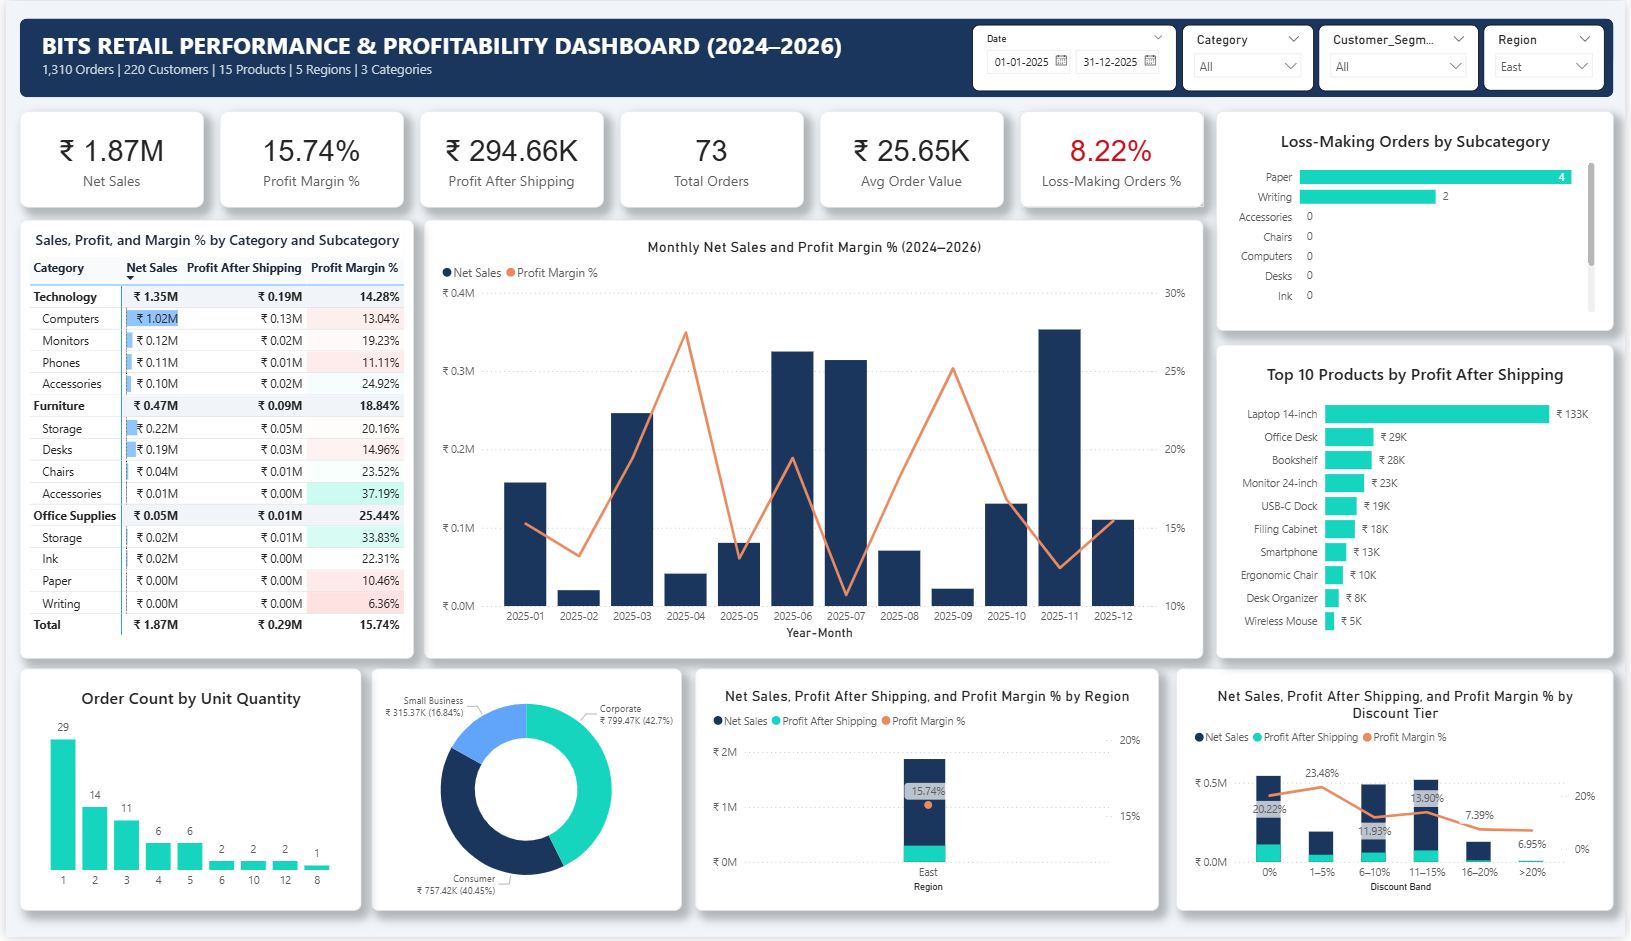

What the dashboard file says about the page in this screenshot:
{"tool":"powerbi","page":{"name":"Page 2","canvas":[1850,1070],"ordinal":1},"visuals":[{"type":"card","fields":{"Values":["retail_sales.Net Sales"]},"box":[15.7,126.2,210,110],"z":0},{"type":"card","fields":{"Values":["retail_sales.Profit Margin %"]},"box":[244.3,126.2,210,110],"z":1000},{"type":"card","fields":{"Values":["retail_sales.Total Orders"]},"box":[701.4,126.2,210,110],"z":2000},{"type":"card","fields":{"Values":["retail_sales.Profit After Shipping"]},"box":[472.9,126.2,210,110],"z":3000},{"type":"shape","box":[15.7,20,1821.4,90],"z":4000},{"type":"textbox","box":[35.7,27.1,946.3,74.3],"z":5000},{"type":"slicer","fields":{"Values":["Date.Date"]},"box":[1104.4,26.9,233.8,76.2],"z":6000},{"type":"slicer","fields":{"Values":["retail_sales.Region"]},"box":[1688.3,27.1,138.6,75],"z":7000},{"type":"slicer","fields":{"Values":["retail_sales.Category"]},"box":[1343.7,26.9,150,76.2],"z":8000},{"type":"slicer","fields":{"Values":["retail_sales.Customer_Segment"]},"box":[1499.7,27.1,182.9,75.7],"z":9000},{"type":"card","fields":{"Values":["retail_sales.Avg Order Value"]},"box":[930,126.2,210,110],"z":10000},{"type":"card","fields":{"Values":["retail_sales.Loss-Making Orders %"]},"box":[1158.6,126.2,210,110],"z":11000},{"type":"barChart","fields":{"Category":["retail_sales.Subcategory"],"Y":["retail_sales.Loss-Making Orders"]},"box":[1382.9,125.7,454.3,251.4],"z":12000},{"type":"lineClusteredColumnComboChart","title":"Monthly Net Sales and Profit Margin % (2024–2026)","fields":{"Category":["Date.Year-Month"],"Y":["retail_sales.Net Sales"],"Y2":["retail_sales.Profit Margin %"]},"box":[477.1,250,891.4,501.4],"z":13000},{"type":"lineClusteredColumnComboChart","title":"Net Sales, Profit After Shipping, and Profit Margin % by Region","fields":{"Category":["retail_sales.Region"],"Y":["retail_sales.Net Sales","retail_sales.Profit After Shipping"],"Y2":["retail_sales.Profit Margin %"]},"box":[787.1,762.9,530,277.1],"z":14000},{"type":"lineClusteredColumnComboChart","title":"Net Sales, Profit After Shipping, and Profit Margin % by Discount Tier","fields":{"Category":["retail_sales.Discount Band"],"Y":["retail_sales.Net Sales","retail_sales.Profit After Shipping"],"Y2":["retail_sales.Profit Margin %"]},"box":[1337.1,762.9,500,277.1],"z":15000},{"type":"pivotTable","title":"Sales, Profit, and Margin % by Category and Subcategory","fields":{"Rows":["retail_sales.Category","retail_sales.Subcategory"],"Values":["retail_sales.Net Sales","retail_sales.Profit After Shipping","retail_sales.Profit Margin %"]},"box":[15,250,450,501.7],"z":16000},{"type":"donutChart","fields":{"Category":["retail_sales.Customer_Segment"],"Y":["retail_sales.Net Sales"]},"box":[416.7,763.3,355,276.7],"z":17000},{"type":"barChart","title":"Top 10 Products by Profit After Shipping","fields":{"Category":["retail_sales.Product_Name"],"Y":["retail_sales.Profit After Shipping"]},"box":[1382.9,392.9,454.3,358.6],"z":18000},{"type":"clusteredColumnChart","title":"Order Count by Unit Quantity","fields":{"Category":["retail_sales.Quantity"],"Y":["retail_sales.Total Orders"]},"box":[15,763.3,390,276.7],"z":19000}]}

Visuals, with their boxes in screenshot pixels (x1, y1, x2, y2), scaled from the page's 1850x1070 canvas onto the 1631x941 screenshot:
card - retail_sales.Net Sales: <box>14,111,199,208</box>
card - retail_sales.Profit Margin %: <box>215,111,401,208</box>
card - retail_sales.Total Orders: <box>618,111,804,208</box>
card - retail_sales.Profit After Shipping: <box>417,111,602,208</box>
shape: <box>14,18,1620,97</box>
textbox: <box>31,24,866,89</box>
slicer - Date.Date: <box>974,24,1180,91</box>
slicer - retail_sales.Region: <box>1488,24,1611,90</box>
slicer - retail_sales.Category: <box>1185,24,1317,91</box>
slicer - retail_sales.Customer_Segment: <box>1322,24,1483,90</box>
card - retail_sales.Avg Order Value: <box>820,111,1005,208</box>
card - retail_sales.Loss-Making Orders %: <box>1021,111,1207,208</box>
barChart - retail_sales.Subcategory x retail_sales.Loss-Making Orders: <box>1219,111,1620,332</box>
"Monthly Net Sales and Profit Margin % (2024–2026)" lineClusteredColumnComboChart: <box>421,220,1206,661</box>
"Net Sales, Profit After Shipping, and Profit Margin % by Region" lineClusteredColumnComboChart: <box>694,671,1161,915</box>
"Net Sales, Profit After Shipping, and Profit Margin % by Discount Tier" lineClusteredColumnComboChart: <box>1179,671,1620,915</box>
"Sales, Profit, and Margin % by Category and Subcategory" pivotTable: <box>13,220,410,661</box>
donutChart - retail_sales.Customer_Segment x retail_sales.Net Sales: <box>367,671,680,915</box>
"Top 10 Products by Profit After Shipping" barChart: <box>1219,346,1620,661</box>
"Order Count by Unit Quantity" clusteredColumnChart: <box>13,671,357,915</box>
